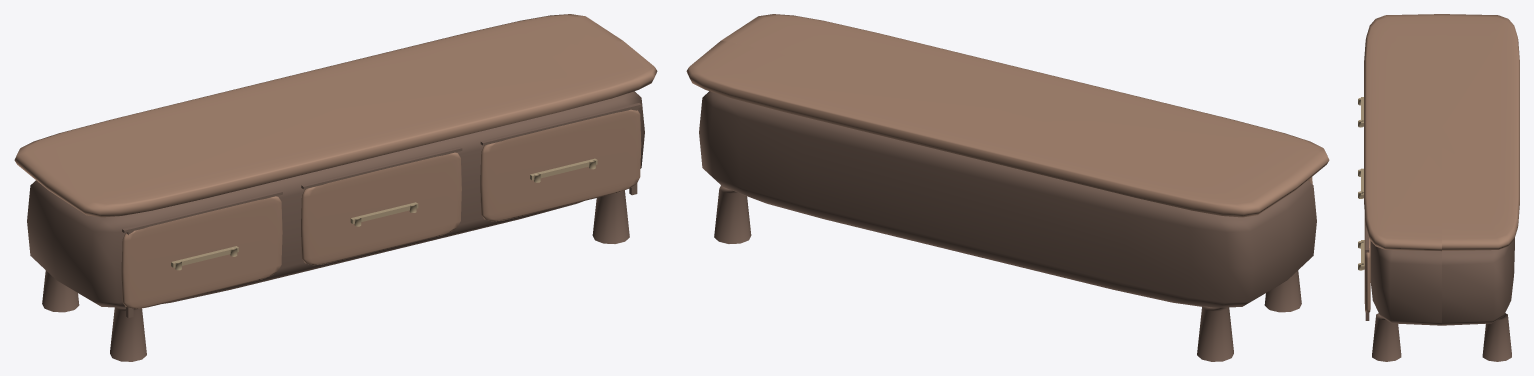
The model's file is room_media_console_v01.glb.
3 views of the same model, side by side, from view 1: azimuth 30°, elevation 25°; view 2: azimuth 150°, elevation 25°; view 3: azimuth 270°, elevation 25° (orthographic). The views are drawn at different scales.
Visible parts, largest first — view 1: Art Media Cabinet v01; view 2: Art Media Cabinet v01; view 3: Art Media Cabinet v01.
Boxes of the visible parts, bbox=[...] form: Art Media Cabinet v01: bbox=[14, 14, 657, 361]; Art Media Cabinet v01: bbox=[686, 14, 1329, 361]; Art Media Cabinet v01: bbox=[1358, 14, 1519, 361].
Bounding box in the file's own units: 1.68 × 0.448 × 0.4974.
